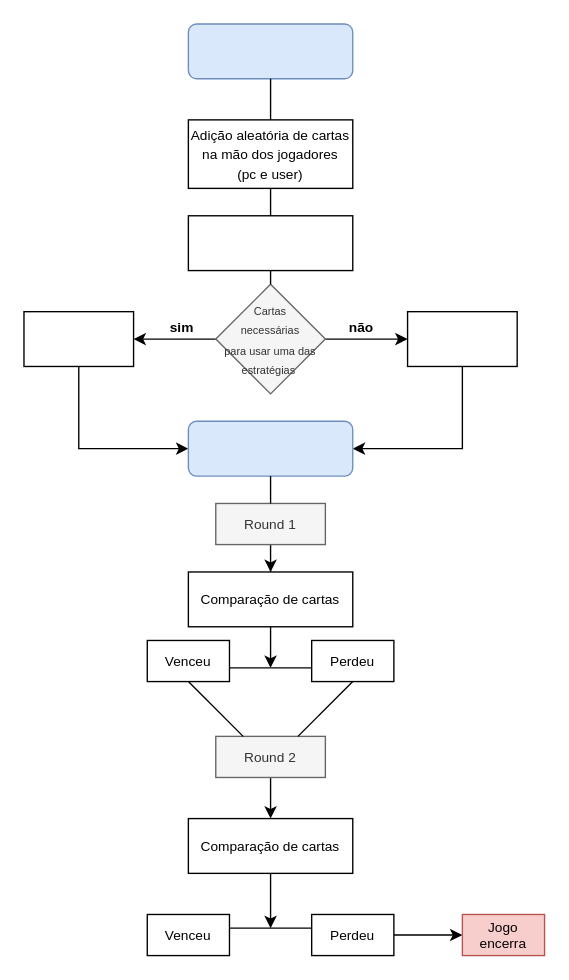
Image size: 569x980. Some labels were removed from this diagram. Here are the shapes that lost their labels. From the top down, the centre of each, then its label:
At [270,51]: "Jogar Truco".
At [270,242]: "Avaliação das cartas do pc".
At [78,338]: "Pc usa estratégia de jogo".
At [461,338]: "Pc sem estratégia de jogo".
At [270,448]: "Jogo começa".
